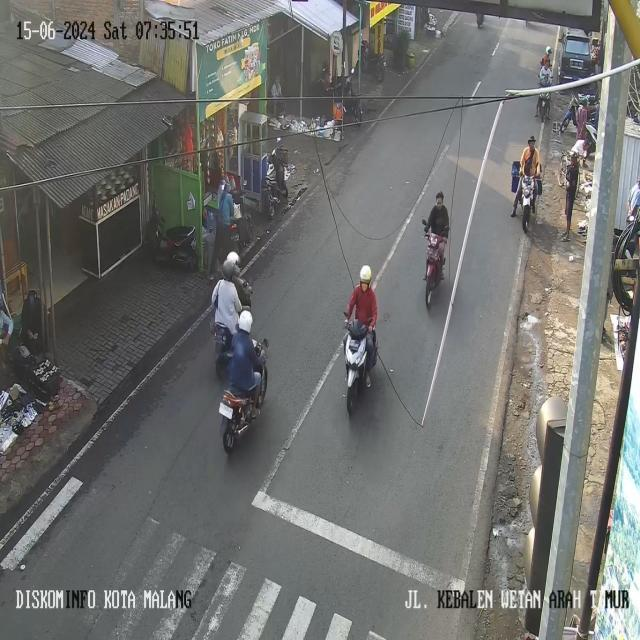Helmet: (238, 310, 252, 332), (222, 260, 234, 280), (359, 265, 371, 283), (226, 251, 239, 265), (579, 96, 587, 105), (527, 136, 535, 143), (546, 46, 551, 54)
Number Plate: (219, 402, 232, 418)
